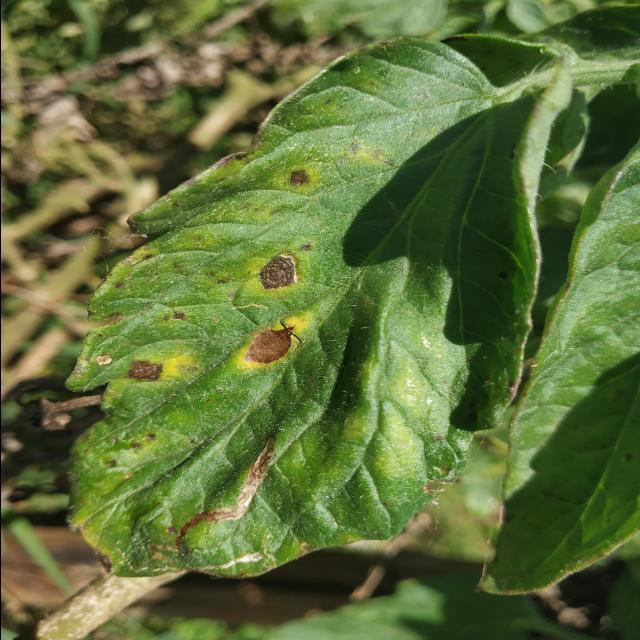Tomato mosaic virus leaf: (64, 128, 406, 398)
